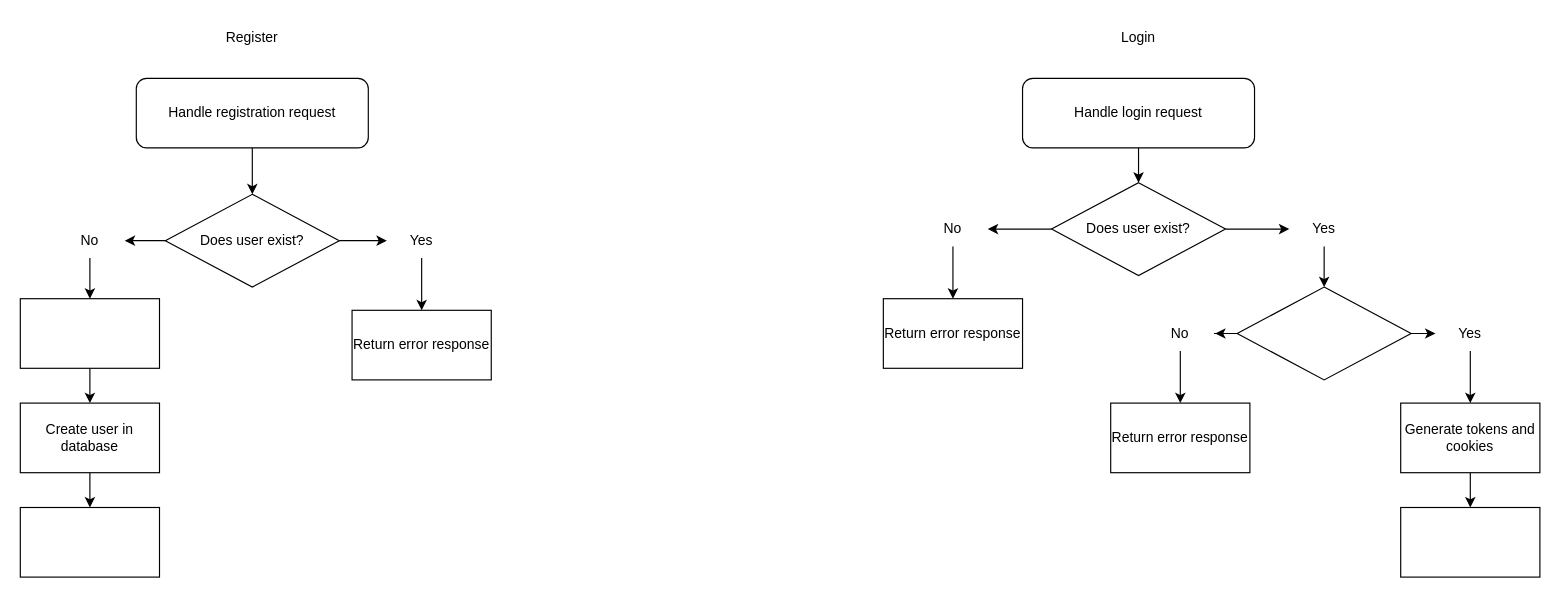
The diagram is 1560 pixels wide and 597 high, and some of its shapes have lost their labels. Here are the shapes that lost their labels. From the top down, the centre of each, then its label:
At (89,333): "Hash password".
At (1323,333): "Is password valid?".
At (89,541): "Return success response".
At (1470,541): "Return tokens and cookies".
